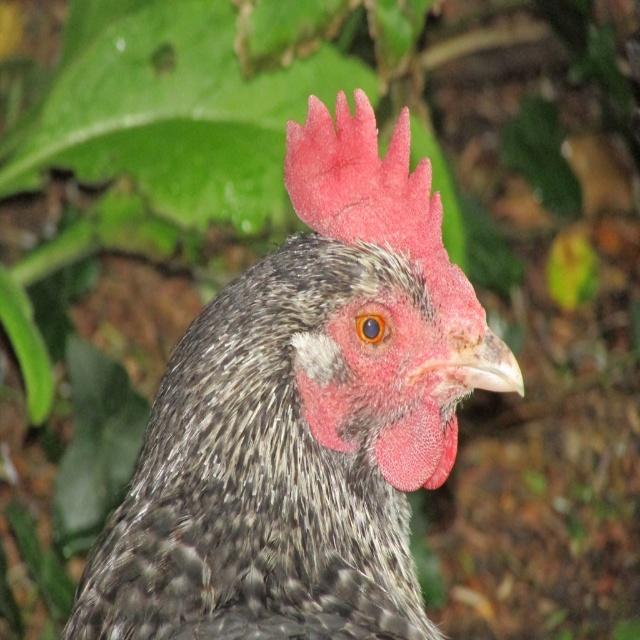Chicken: (70, 154, 499, 640)
